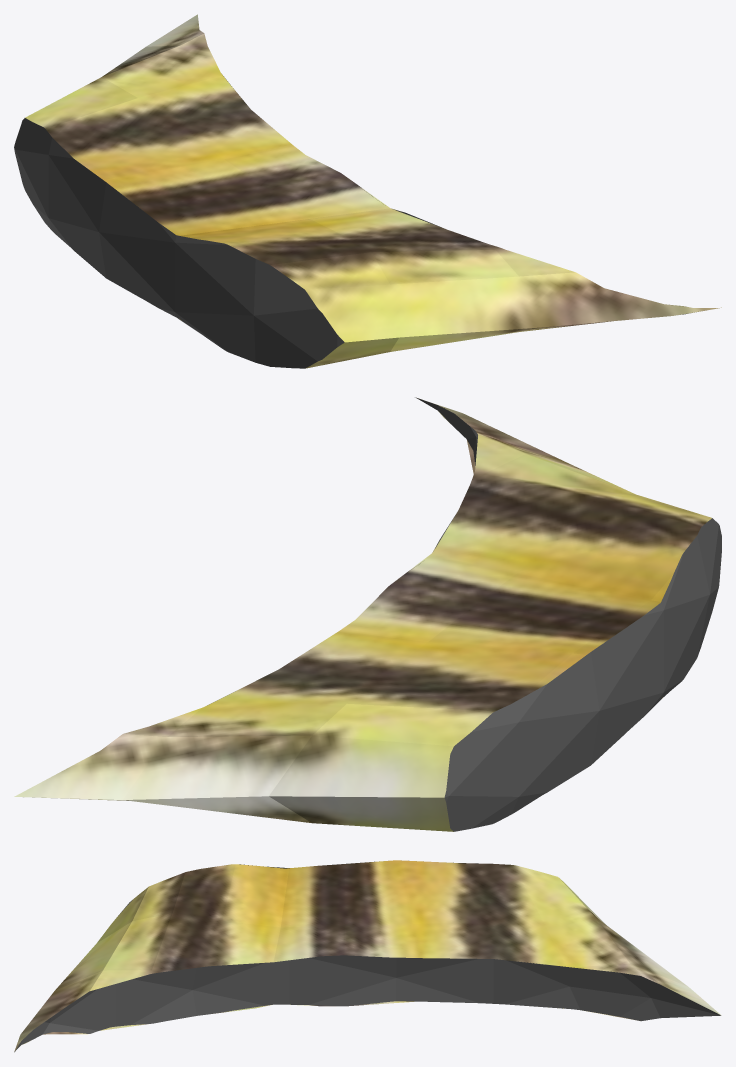
File: link_14_composite.obj
3 renders of one model, top to bottom at view 1: azimuth 30°, elevation 25°; view 2: azimuth 150°, elevation 25°; view 3: azimuth 270°, elevation 25°, orthographic. The views are drawn at different scales.
Size of the model in its own units: 0.00192 by 0.000506 by 0.00369.
1 material, 1 textured.
